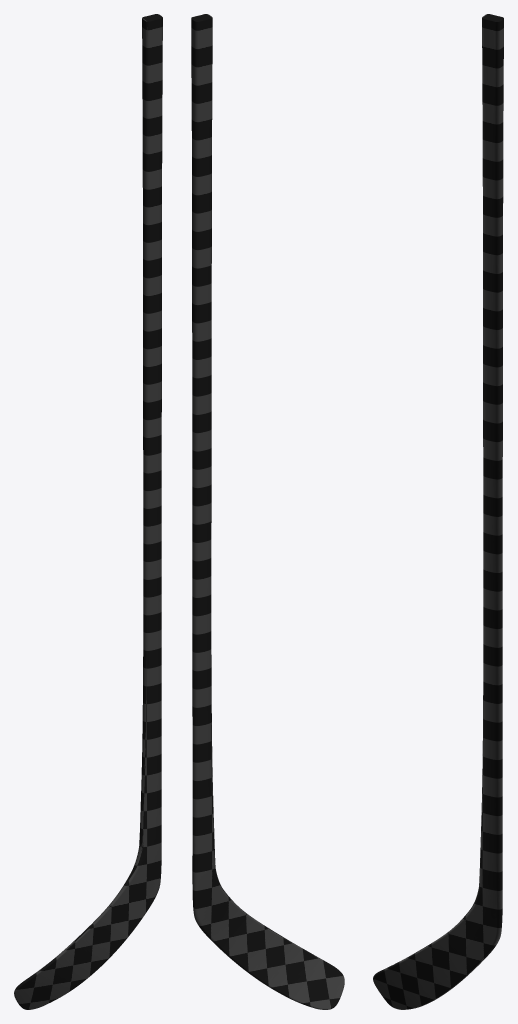
Rendered from P65-SBO.glb.
The picture shows the model from 3 angles, left to right: view 1: azimuth 30°, elevation 25°; view 2: azimuth 210°, elevation 25°; view 3: azimuth 330°, elevation 25°; orthographic projection. The views are drawn at different scales.
Parts seen in each view (by area): view 1: geometry_0; view 2: geometry_0; view 3: geometry_0.
Boxes of the visible parts, left/top/right/bottom form: geometry_0: left=14, top=14, right=162, bottom=1009; geometry_0: left=191, top=14, right=344, bottom=1009; geometry_0: left=373, top=14, right=503, bottom=1009.
Size of the model in its own units: 237 by 1650 by 58.52.
Materials: 1 (1 with a texture image).
